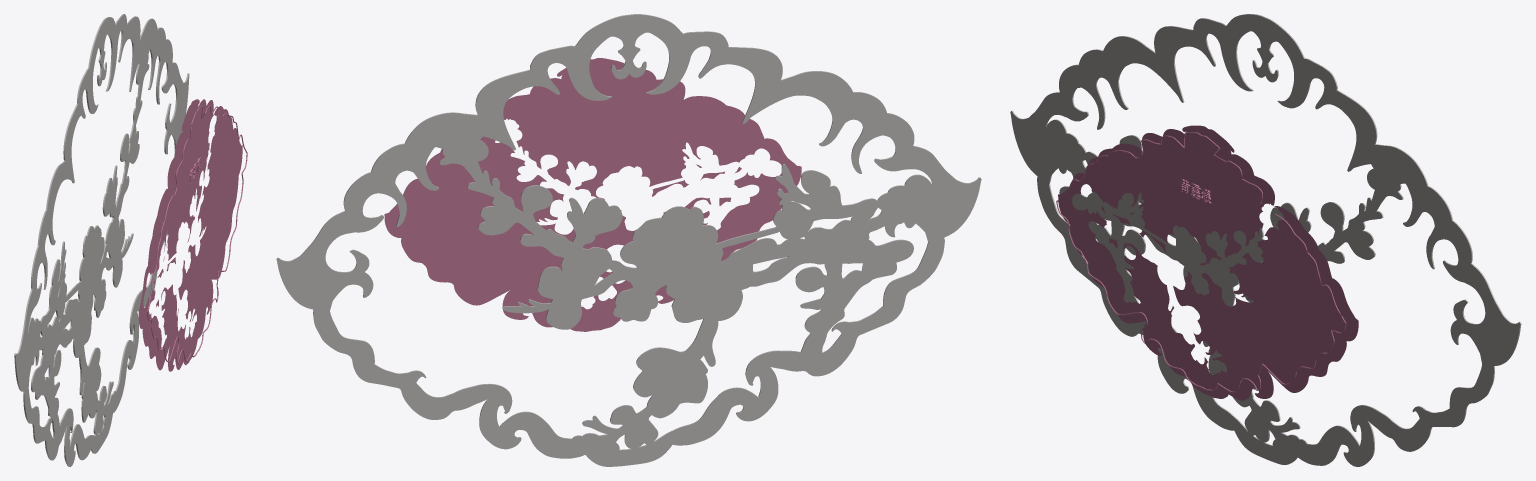
The model's file is test_engraved2_metalflwr.glb.
3 views of the same model, side by side, from view 1: azimuth 30°, elevation 25°; view 2: azimuth 150°, elevation 25°; view 3: azimuth 270°, elevation 25° (orthographic). The views are drawn at different scales.
Visible parts, largest first — view 1: outlineCurve.001, MA_Artboard 2.svg, Curve; view 2: outlineCurve.001, MA_Artboard 2.svg; view 3: outlineCurve.001, MA_Artboard 2.svg, Curve.
Part boxes in pixels (x1,y1,x2,y2): outlineCurve.001: (14,14,189,466); MA_Artboard 2.svg: (138,99,242,371); Curve: (147,105,247,363); outlineCurve.001: (276,14,981,466); MA_Artboard 2.svg: (384,58,801,331); outlineCurve.001: (1010,14,1521,466); MA_Artboard 2.svg: (1058,125,1358,400); Curve: (1056,132,1346,392).
Size of the model in its own units: 2.23 by 2.15 by 2.25.
